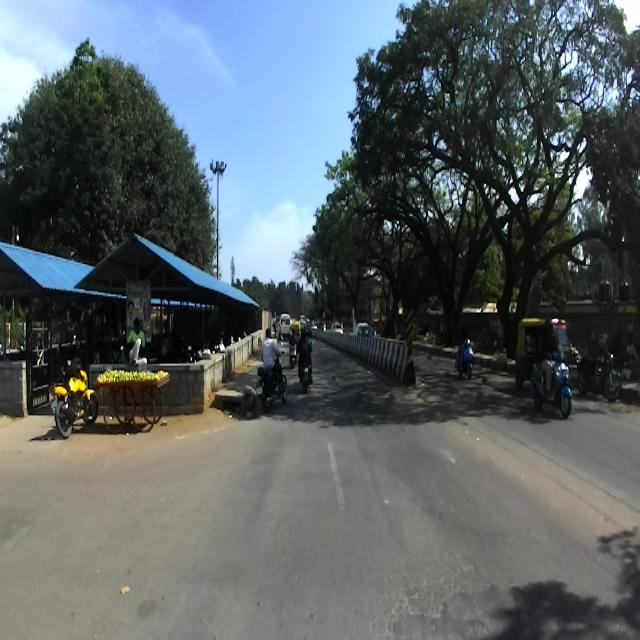autorickshaw: (515, 317, 571, 391)
motorcycle_RoyalEnfield: (577, 347, 622, 400), (255, 349, 287, 412)
motorcycle_TVS: (48, 358, 98, 438)
scooter: (530, 346, 571, 419), (454, 334, 474, 379)
